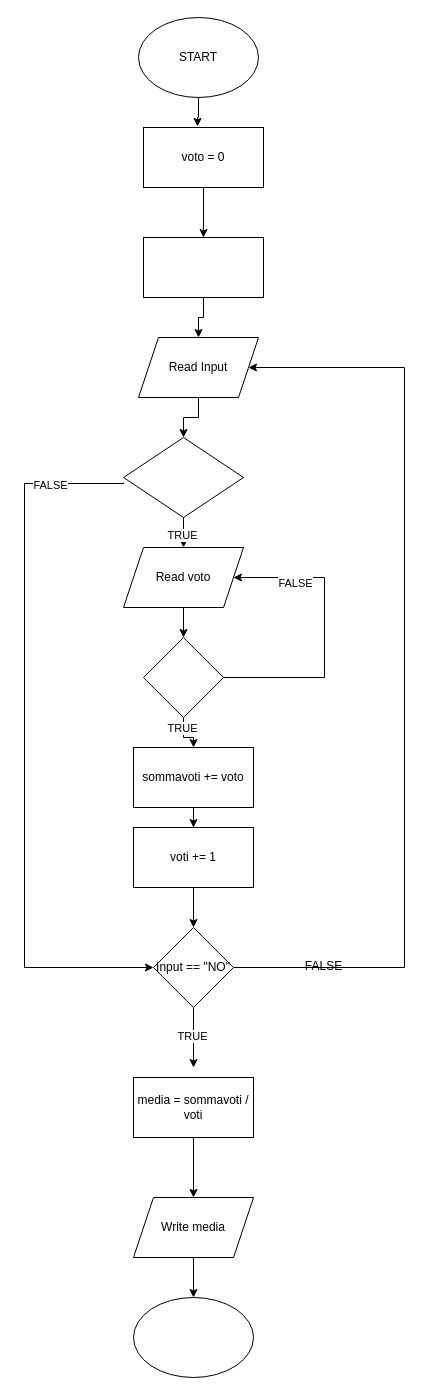
Some shapes in this 430 by 1395 pixel diagram are drawn without their labels. Here are the shapes that lost their labels. From the top down, the centre of each, then its label:
(x=203, y=267): voti = 0
(x=183, y=477): Input == "SI"
(x=183, y=677): voto > 0
(x=193, y=1337): END
